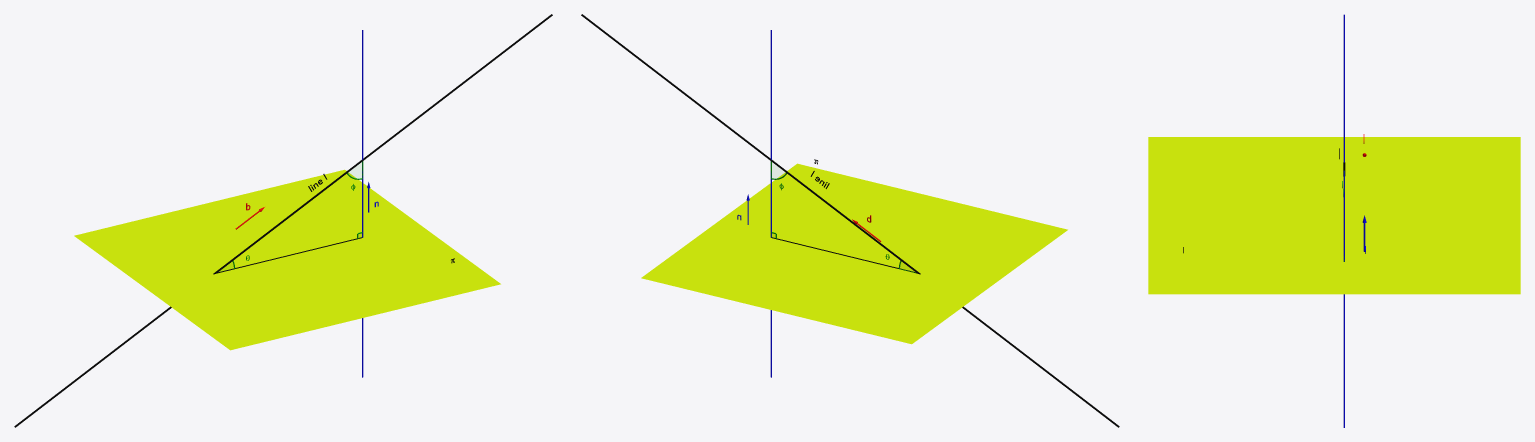
Rendered from 3.3.2 plangle_e.glb.
The picture shows the model from 3 angles, left to right: view 1: azimuth 30°, elevation 25°; view 2: azimuth 150°, elevation 25°; view 3: azimuth 270°, elevation 25°; orthographic projection. The views are drawn at different scales.
Parts seen in each view (by area): view 1: f, i, j; view 2: f, i, j; view 3: f, j.
Boxes of the visible parts, left/top/right/bottom form: f: left=74, top=169, right=500, bottom=350; i: left=14, top=14, right=552, bottom=427; j: left=362, top=30, right=363, bottom=377; f: left=641, top=163, right=1067, bottom=344; i: left=581, top=14, right=1119, bottom=427; j: left=770, top=30, right=771, bottom=377; f: left=1148, top=137, right=1520, bottom=294; j: left=1343, top=14, right=1344, bottom=427.
Bounding box in the file's own units: 0.3642 × 0.2246 × 0.1834.
